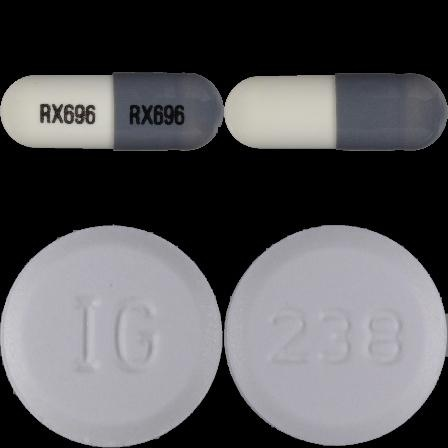33261-434: (0, 0, 224, 224)
